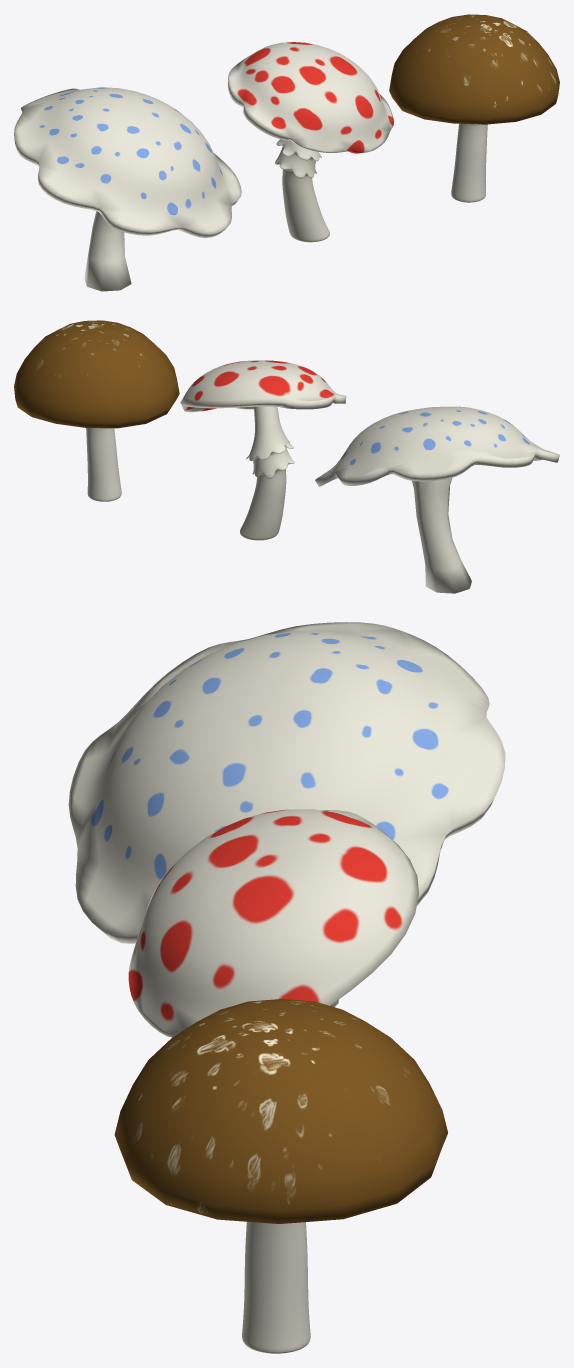
The model's file is Functional mushrooms.fbx.
3 renders of one model, top to bottom at view 1: azimuth 30°, elevation 25°; view 2: azimuth 150°, elevation 25°; view 3: azimuth 270°, elevation 25°, orthographic. The views are drawn at different scales.
Visible parts, largest first — view 1: B&W Mushroom.001, Normal Mushroom.001, White Russula.001, White Russula handle, 圓柱體.003, White Russula handle.001; view 2: Normal Mushroom.001, B&W Mushroom.001, White Russula.001, White Russula handle, 圓柱體.003, White Russula handle.001; view 3: B&W Mushroom.001, Normal Mushroom.001, White Russula.001, White Russula handle.001.
Part boxes in pixels (left/top/right/bottom): B&W Mushroom.001: left=14, top=87, right=241, bottom=238; Normal Mushroom.001: left=389, top=14, right=559, bottom=124; White Russula.001: left=228, top=42, right=393, bottom=153; White Russula handle: left=275, top=139, right=329, bottom=242; 圓柱體.003: left=84, top=211, right=131, bottom=291; White Russula handle.001: left=451, top=123, right=487, bottom=202; Normal Mushroom.001: left=14, top=320, right=179, bottom=428; B&W Mushroom.001: left=315, top=406, right=559, bottom=486; White Russula.001: left=180, top=360, right=346, bottom=412; White Russula handle: left=240, top=406, right=294, bottom=540; 圓柱體.003: left=412, top=477, right=471, bottom=593; White Russula handle.001: left=86, top=428, right=121, bottom=501; B&W Mushroom.001: left=68, top=622, right=505, bottom=943; Normal Mushroom.001: left=114, top=999, right=447, bottom=1223; White Russula.001: left=128, top=809, right=418, bottom=1037; White Russula handle.001: left=242, top=1221, right=310, bottom=1353.
Bounding box in the file's own units: 280 × 91.41 × 103.
